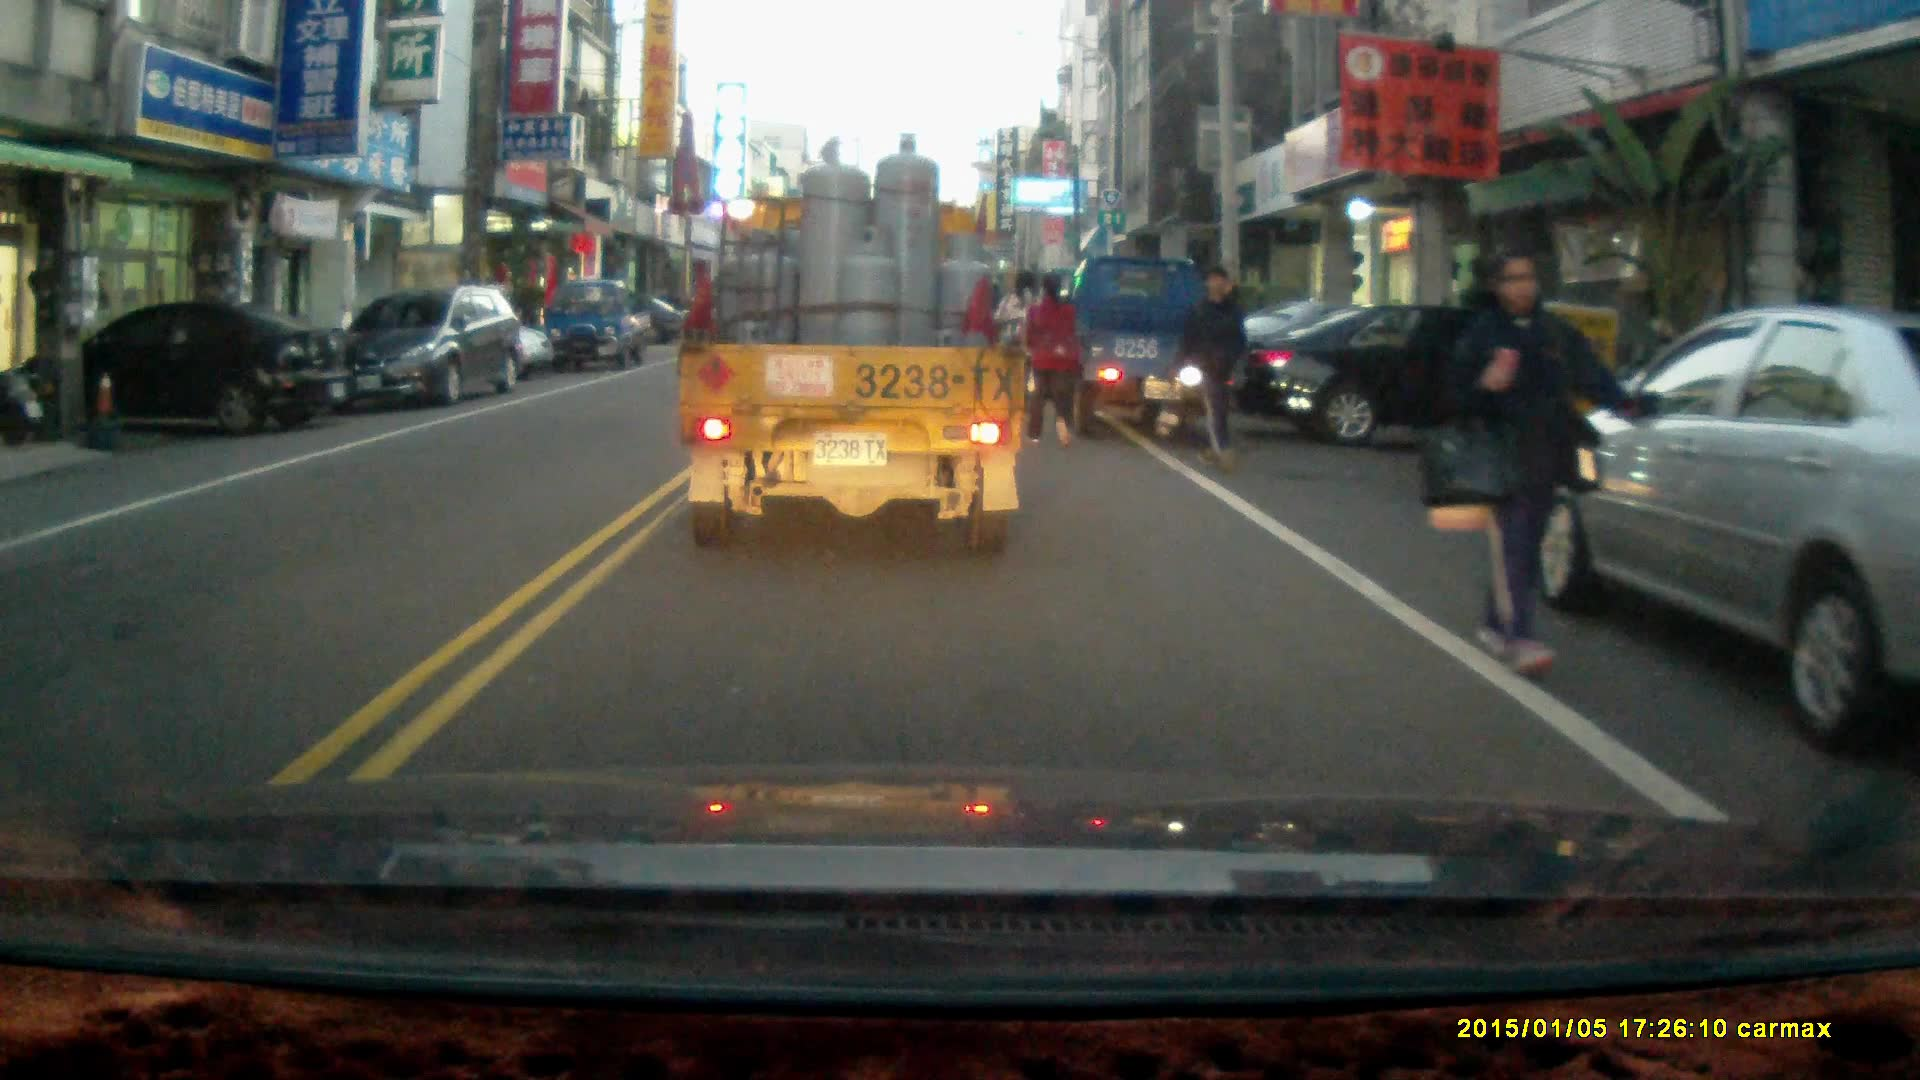pedestrian: (1450, 240, 1649, 681), (1175, 263, 1244, 475), (1020, 271, 1079, 450)
vehicle: (1504, 307, 1920, 734), (676, 131, 1034, 561), (1230, 299, 1569, 469), (4, 301, 352, 442), (1060, 259, 1265, 450), (330, 289, 531, 415), (545, 279, 654, 375)
